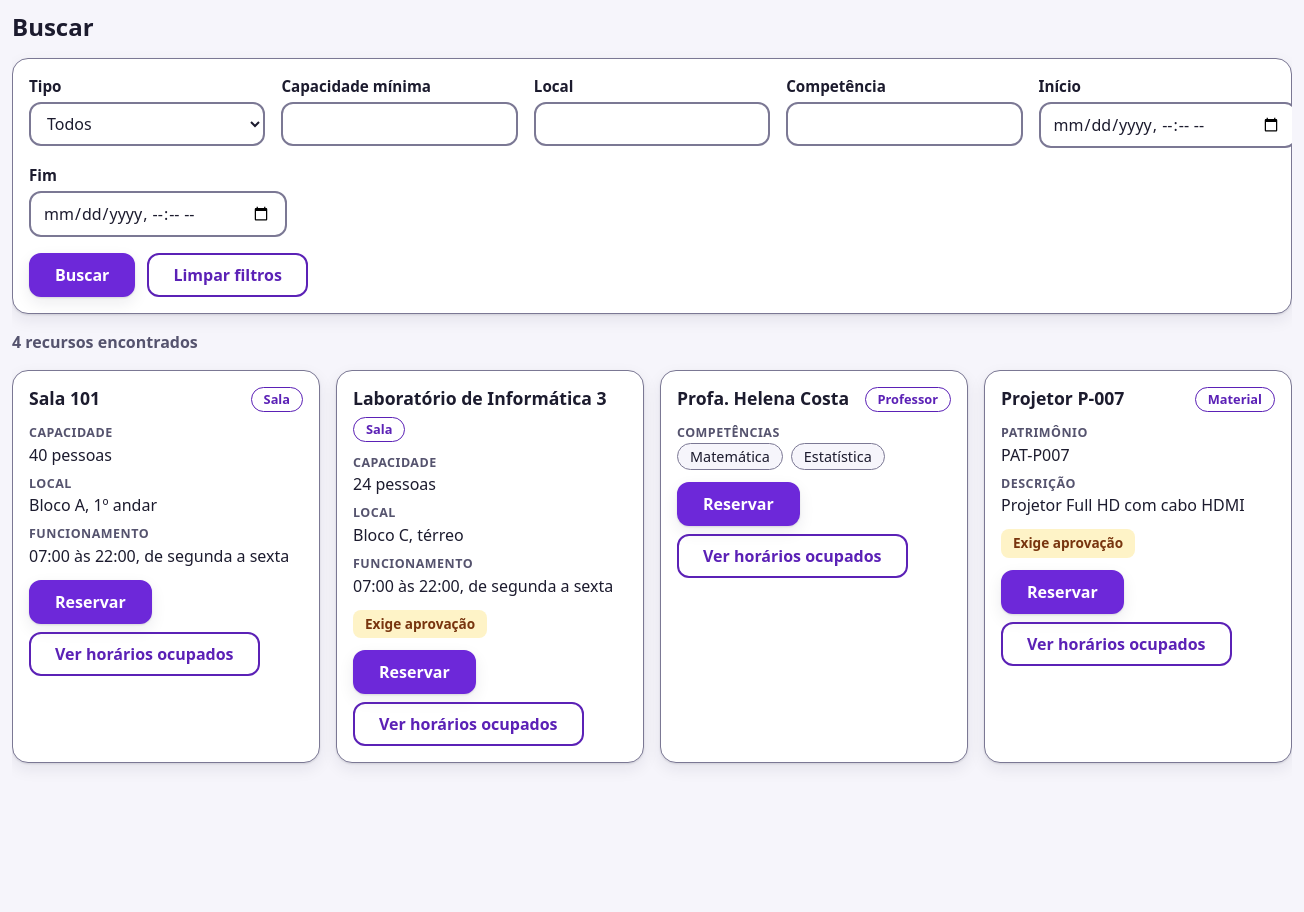
Test: PaginaDeBusca: filtros › o período vai ao servidor em ISO-8601 com offset do campus (ADR-005)
expect the text "4 recursos encontrados" is shown: met, box [12, 331, 198, 353]
Type "2026-10-21T14:00" into the field labelled "Início" at (1165, 125), box [1039, 102, 1292, 148]
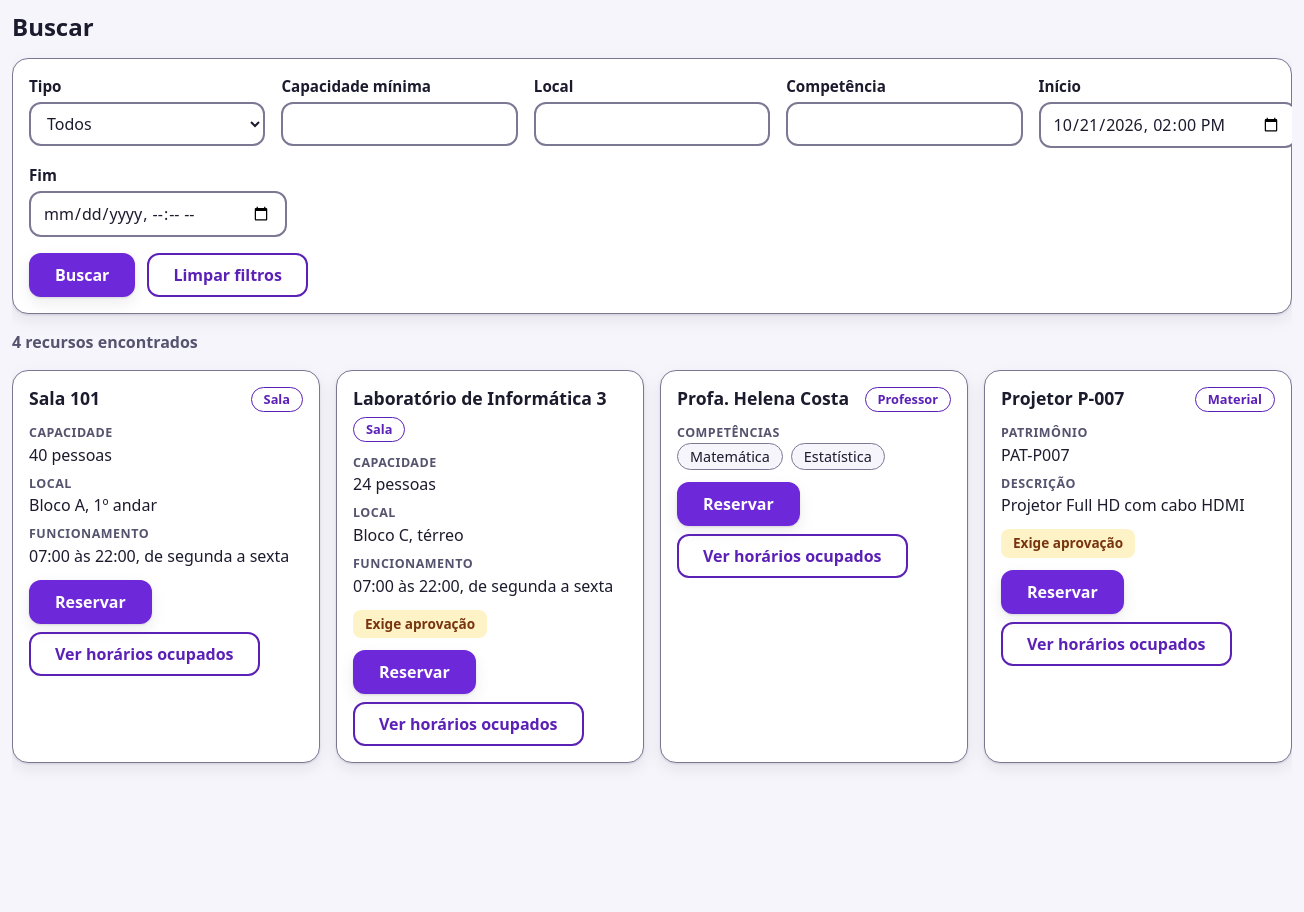
Type "2026-10-21T16:00" into the field labelled "Fim" at (158, 214), box [29, 191, 287, 237]
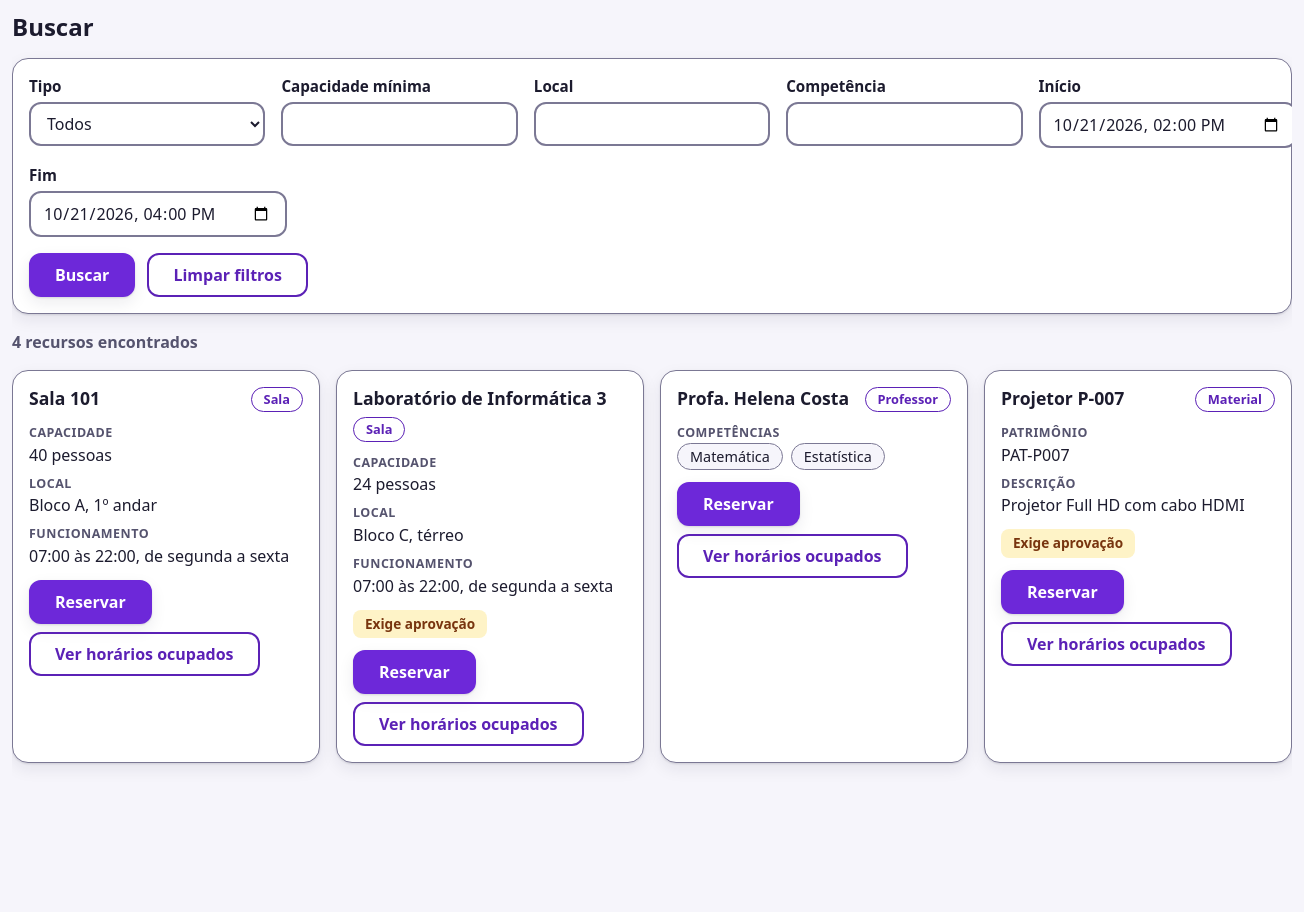
Click the button "Buscar" at (82, 275), box [29, 253, 135, 297]
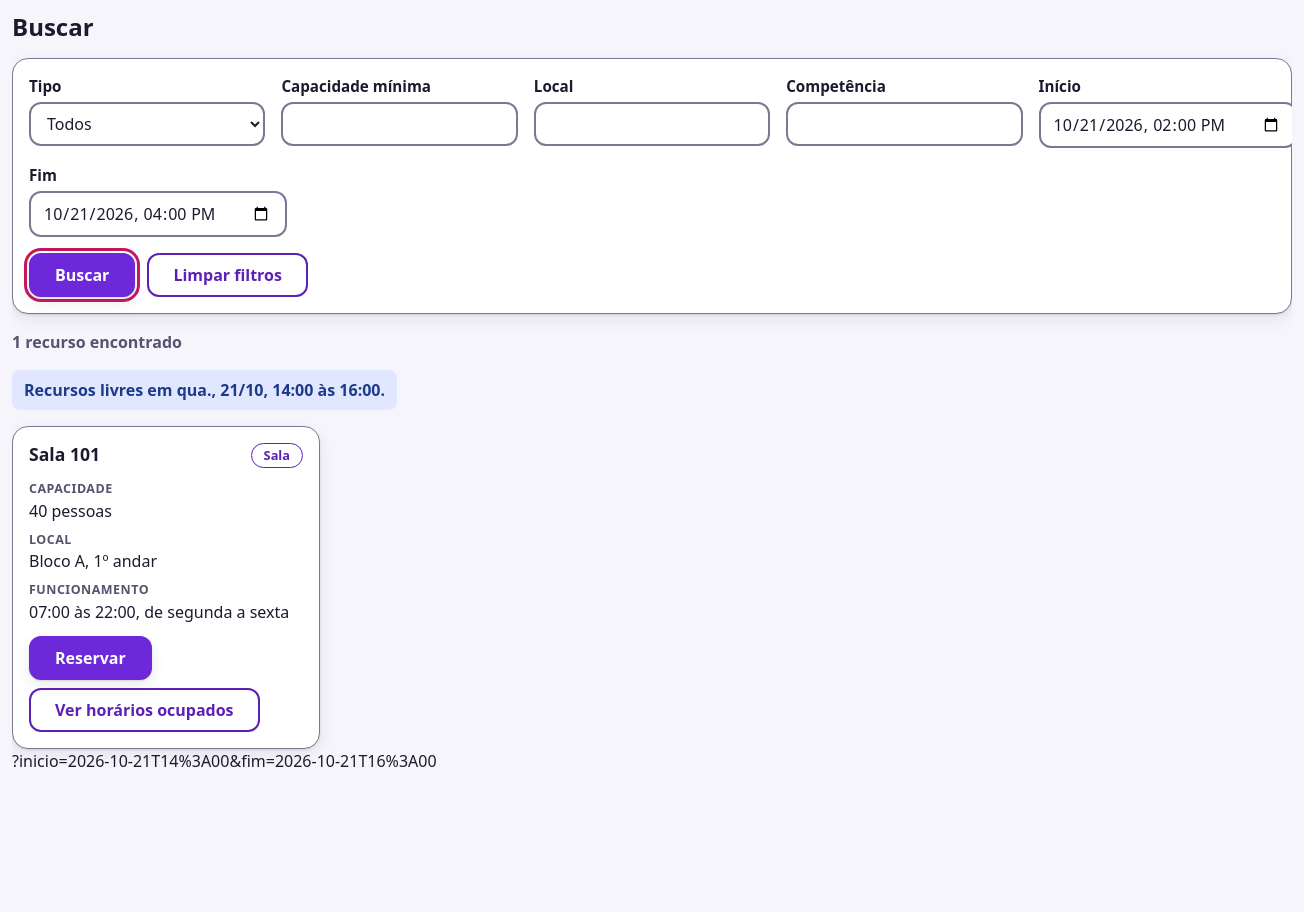
expect the text "1 recurso encontrado" is shown: met, box [12, 331, 182, 353]
